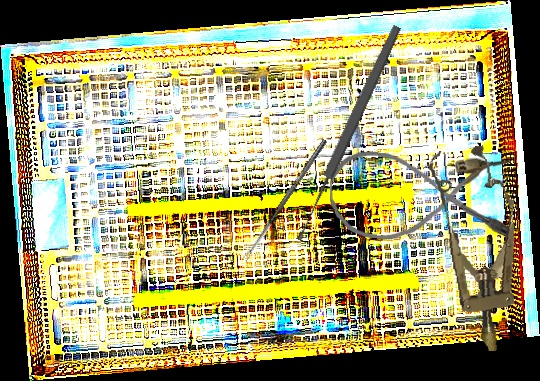Cannula: (328, 150, 513, 244)
Speculum: (423, 142, 534, 357)
Surgical Spoon: (291, 23, 404, 243), (241, 138, 328, 262)
